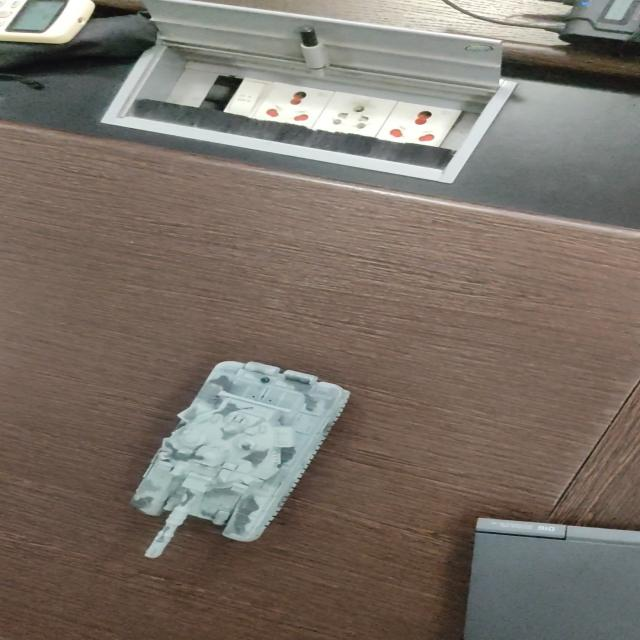tank: (122, 351, 362, 564)
